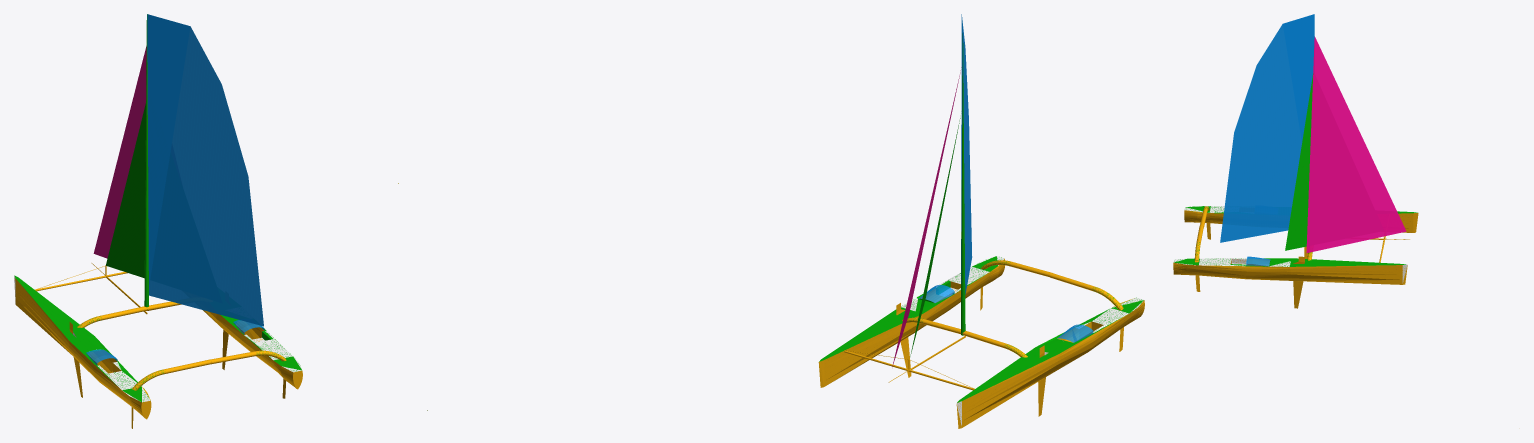
The model's file is foc_babord_catamaran.dae.
3 views of the same model, side by side, from view 1: azimuth 30°, elevation 25°; view 2: azimuth 150°, elevation 25°; view 3: azimuth 270°, elevation 25° (orthographic). The views are drawn at different scales.
Parts seen in each view (by area): view 1: SketchUp (×11); view 2: SketchUp (×8); view 3: SketchUp (×6).
Boxes of the visible parts, x1=… form: SketchUp (×11): x1=14, y1=14, x2=302, y2=419; SketchUp (×8): x1=818, y1=14, x2=1144, y2=428; SketchUp (×6): x1=1173, y1=14, x2=1418, y2=284.
Bounding box in the file's own units: 188600 × 156303 × 136084.
14 materials, 5 textured.
